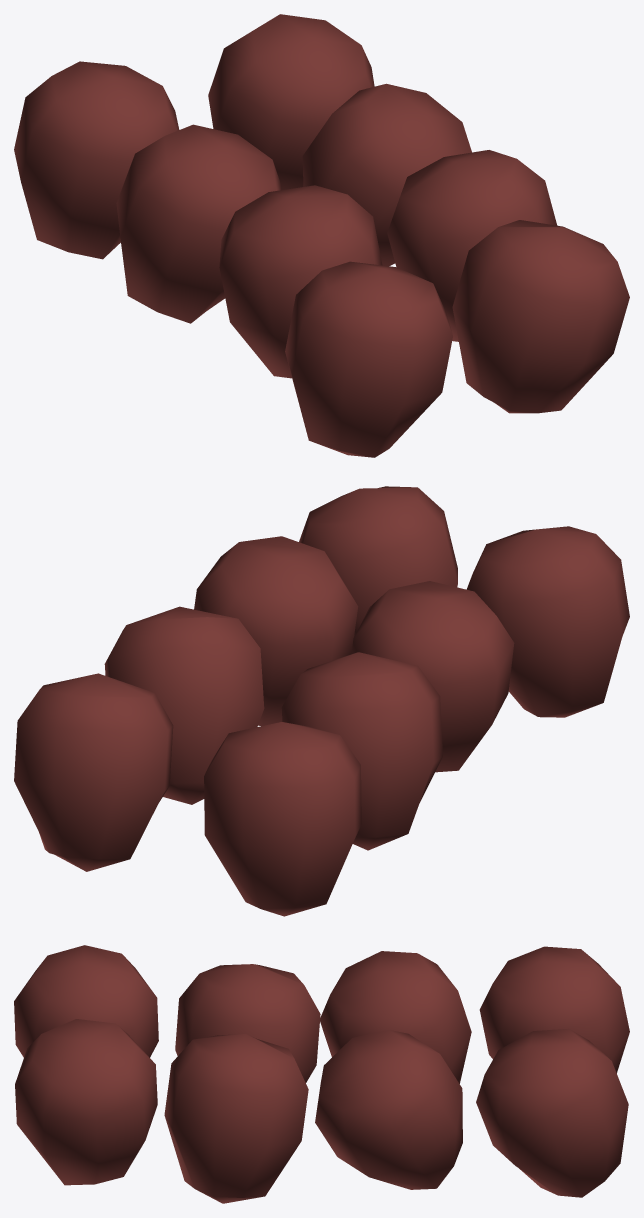
Rendered from Muat Sawit_2_Low Mesh.gltf.
The picture shows the model from 3 angles, top to bottom: view 1: azimuth 30°, elevation 25°; view 2: azimuth 150°, elevation 25°; view 3: azimuth 270°, elevation 25°; orthographic projection. The views are drawn at different scales.
Visible parts, largest first — view 1: Muat Sawit_2_Low Mesh; view 2: Muat Sawit_2_Low Mesh; view 3: Muat Sawit_2_Low Mesh.
Part boxes in pixels (x1,y1,x2,y2): Muat Sawit_2_Low Mesh: (14,14,629,457); Muat Sawit_2_Low Mesh: (14,486,629,916); Muat Sawit_2_Low Mesh: (14,945,629,1203).
Size of the model in its own units: 0.9893 by 0.4948 by 1.75.
